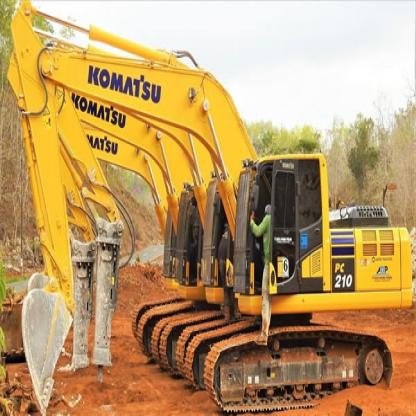excavator: (9, 5, 415, 415)
